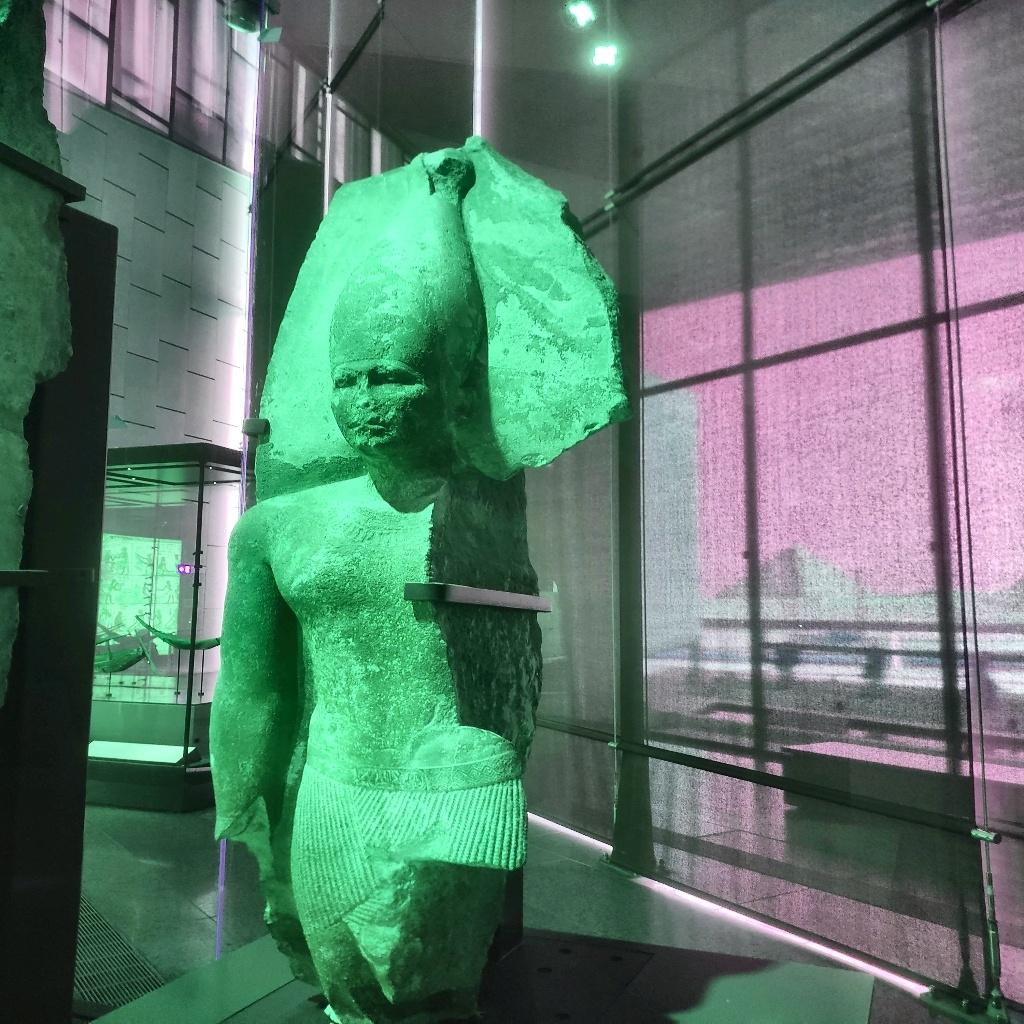Statue of Snefru: (200, 142, 638, 1020)
